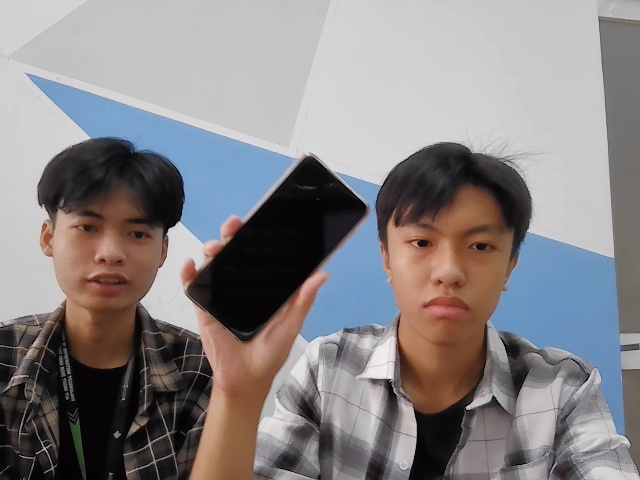human: (377, 142, 536, 345), (37, 135, 184, 328)
phone: (180, 150, 375, 345)
